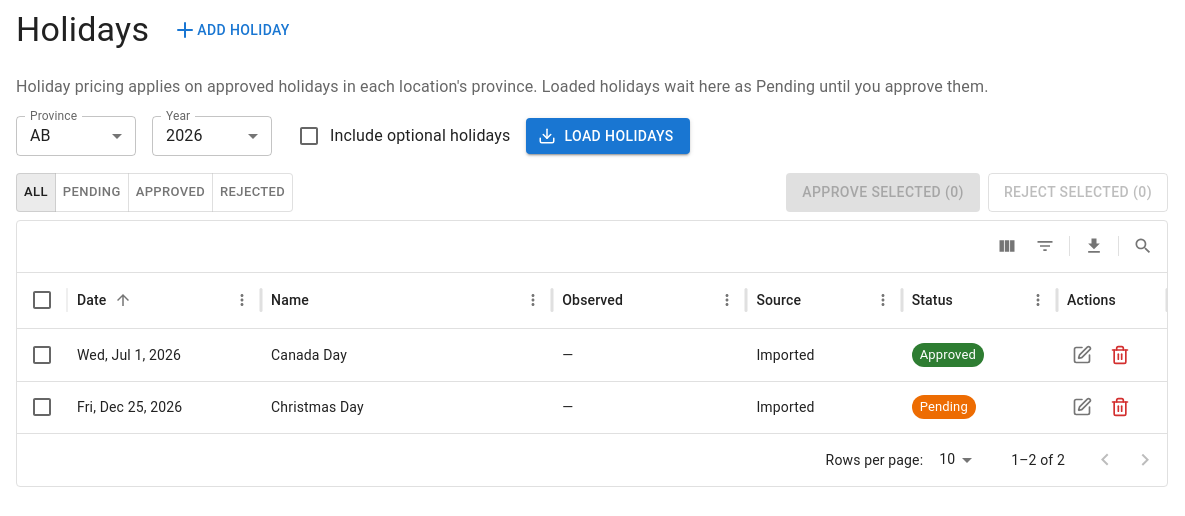
Test: HolidayManagement › Load holidays fetches them and shows the new ones to review
expect the text "Christmas Day" is shown: met, box 261,381 -> 552,433
What coordinates should you click on to do the following:
click the button "Load holidays"
I would click on:
 (608, 136)
Its box is 526,118 -> 690,154.
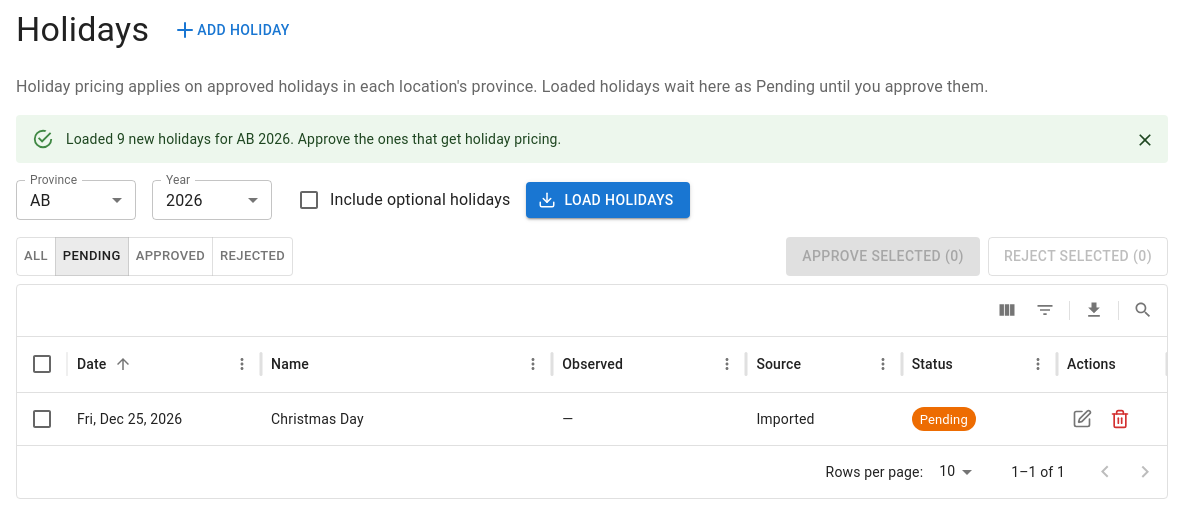
expect the text "Loaded 9 new holidays for AB" is shown: met, box 66,131 -> 561,147
